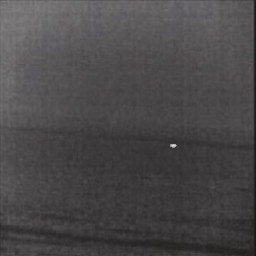Target: (169, 143, 177, 148)
